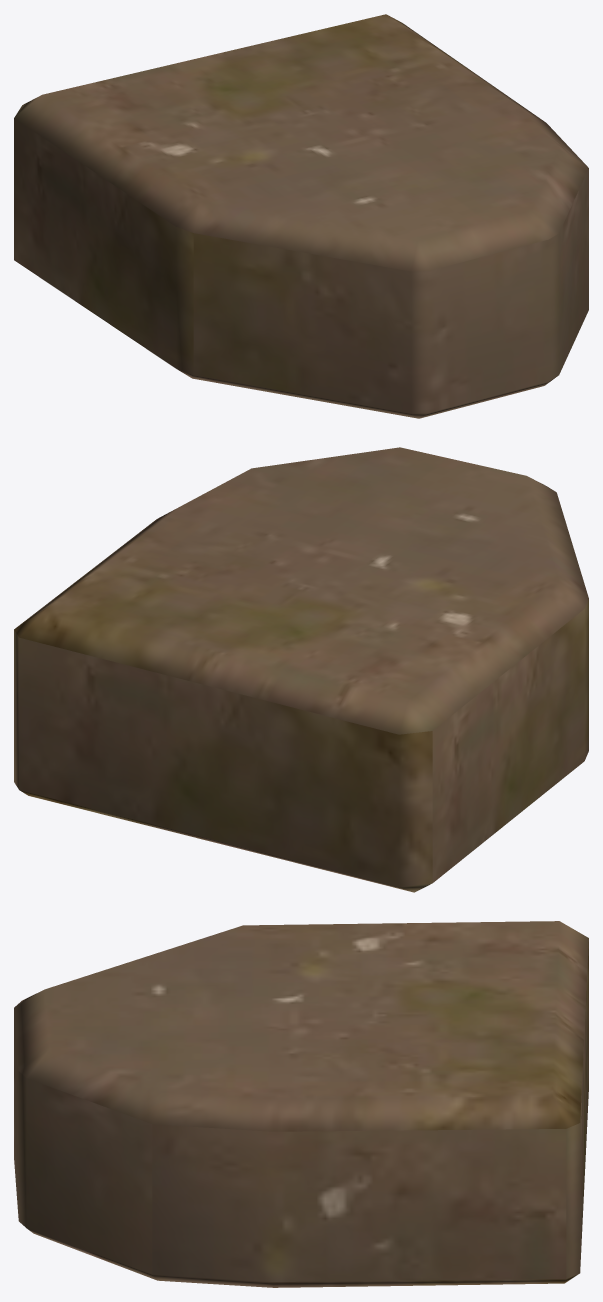
3 renders of one model, top to bottom at view 1: azimuth 30°, elevation 25°; view 2: azimuth 150°, elevation 25°; view 3: azimuth 270°, elevation 25°, orthographic. The views are drawn at different scales.
Parts seen in each view (by area): view 1: SM_Human_Ruins_Floor_Slab_04_LOD0; view 2: SM_Human_Ruins_Floor_Slab_04_LOD0; view 3: SM_Human_Ruins_Floor_Slab_04_LOD0.
Boxes of the visible parts, <box> form: SM_Human_Ruins_Floor_Slab_04_LOD0: <box>14,14,588,418</box>; SM_Human_Ruins_Floor_Slab_04_LOD0: <box>14,447,588,892</box>; SM_Human_Ruins_Floor_Slab_04_LOD0: <box>14,921,588,1287</box>.
Bounding box in the file's own units: 0.4839 × 0.2008 × 0.5768.
Materials: 1 (1 with a texture image).
